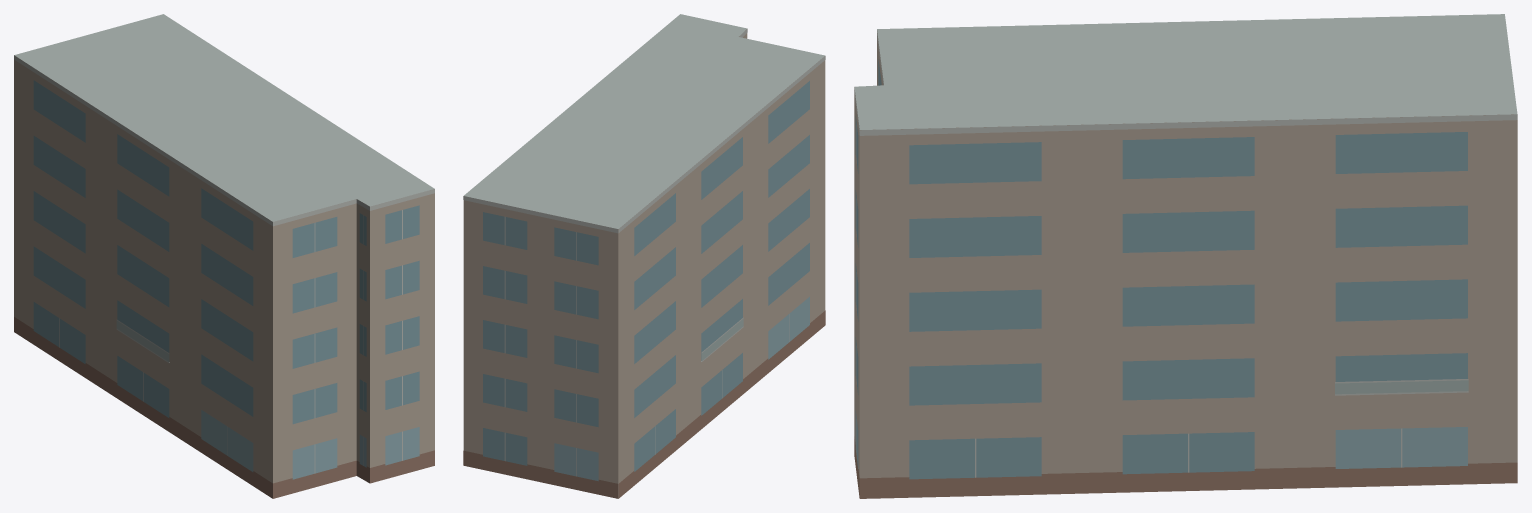
File: survey-upis-32966276.glb
3 views of the same model, side by side, from view 1: azimuth 30°, elevation 25°; view 2: azimuth 150°, elevation 25°; view 3: azimuth 270°, elevation 25° (orthographic). The views are drawn at different scales.
Parts seen in each view (by area): view 1: survey-upis-32966276.tmp; view 2: survey-upis-32966276.tmp; view 3: survey-upis-32966276.tmp.
Boxes of the visible parts, left/top/right/bottom form: survey-upis-32966276.tmp: left=14, top=14, right=434, bottom=498; survey-upis-32966276.tmp: left=463, top=14, right=825, bottom=498; survey-upis-32966276.tmp: left=854, top=14, right=1517, bottom=498.
Size of the model in its own units: 10.44 by 15.45 by 25.19.
